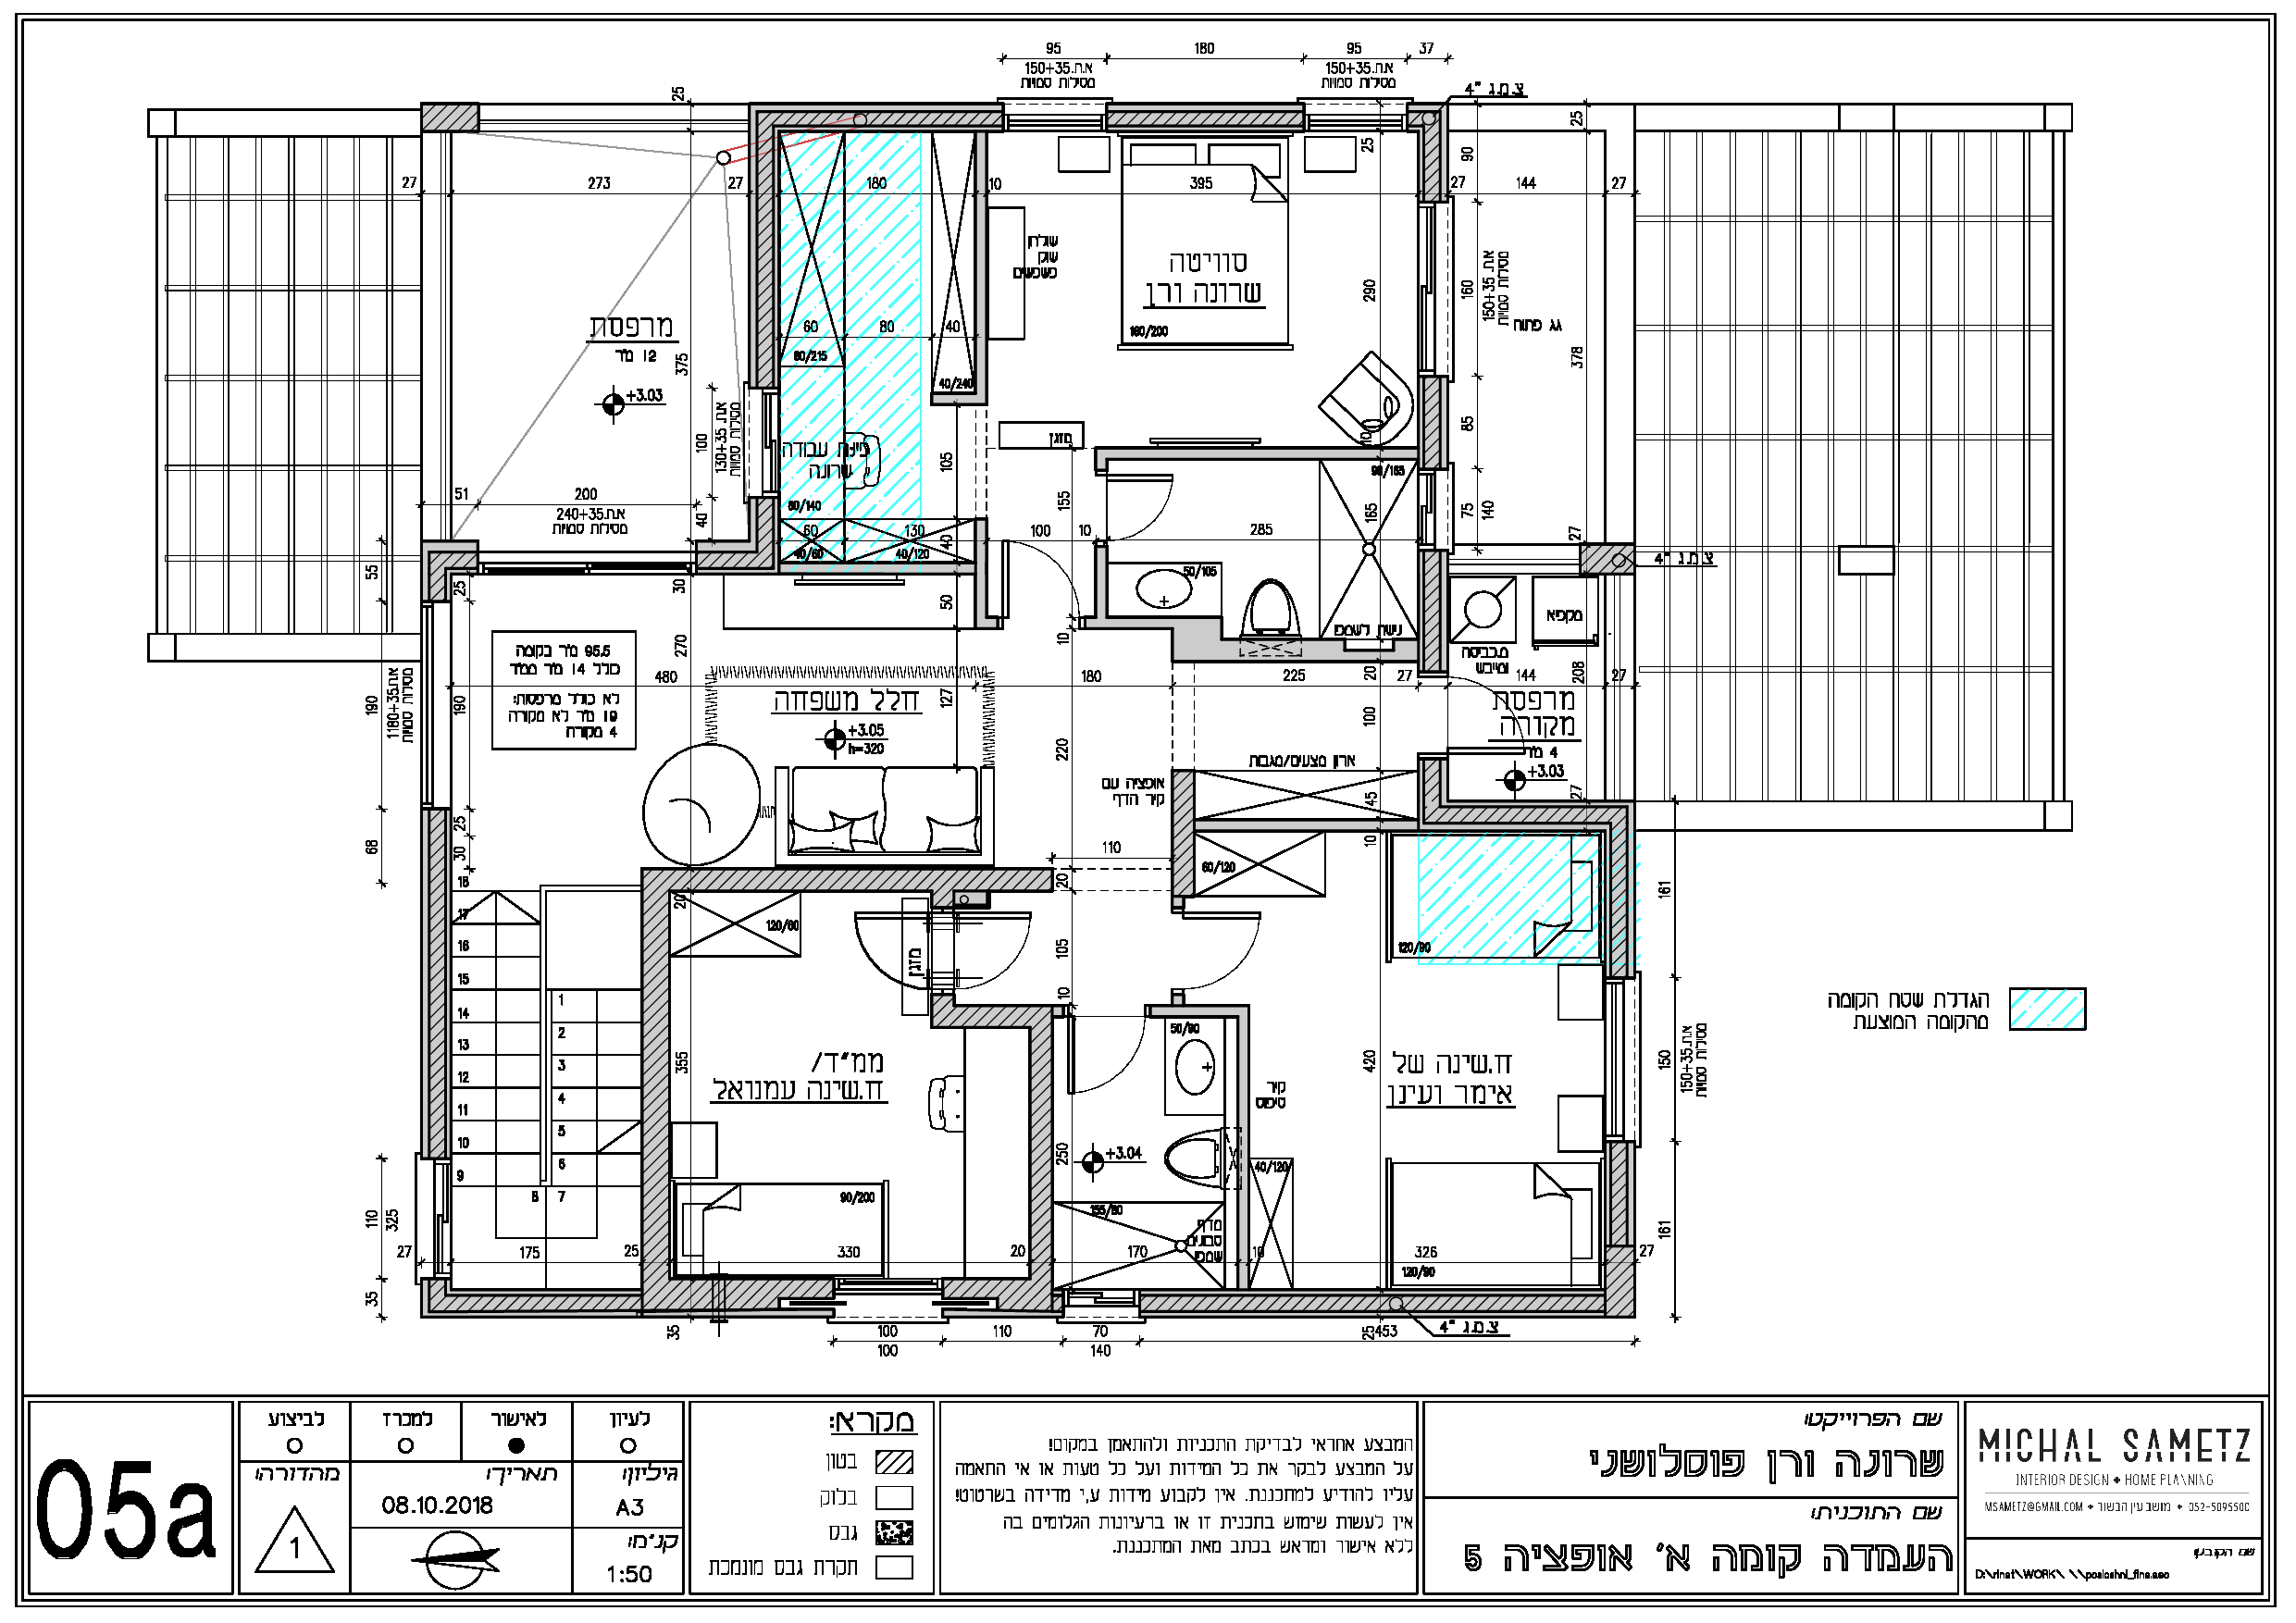door: (1196, 903, 1279, 996), (831, 906, 919, 987), (963, 908, 1042, 984), (1117, 469, 1179, 539)
wall: (643, 876, 671, 1302), (650, 873, 1035, 887), (1031, 1015, 1049, 1254), (1149, 1295, 1379, 1310), (759, 169, 773, 379), (1108, 112, 1298, 126), (1173, 776, 1189, 885)
window: (1411, 200, 1467, 376), (1600, 978, 1655, 1143), (416, 599, 457, 810), (478, 546, 697, 578), (408, 1159, 460, 1280), (1001, 91, 1110, 142), (740, 388, 783, 499), (1302, 90, 1407, 135), (1412, 471, 1462, 553), (1065, 1284, 1142, 1331)
